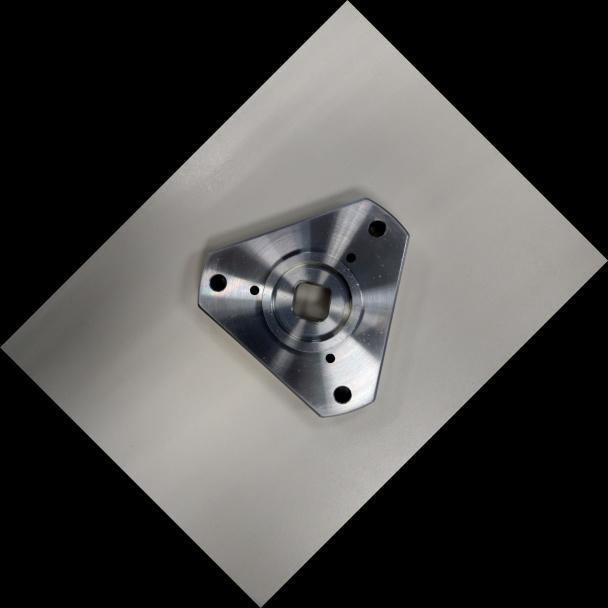hole: (361, 212, 392, 243), (327, 379, 357, 410), (203, 267, 233, 297), (321, 349, 339, 367), (246, 281, 263, 299), (342, 249, 359, 266)
